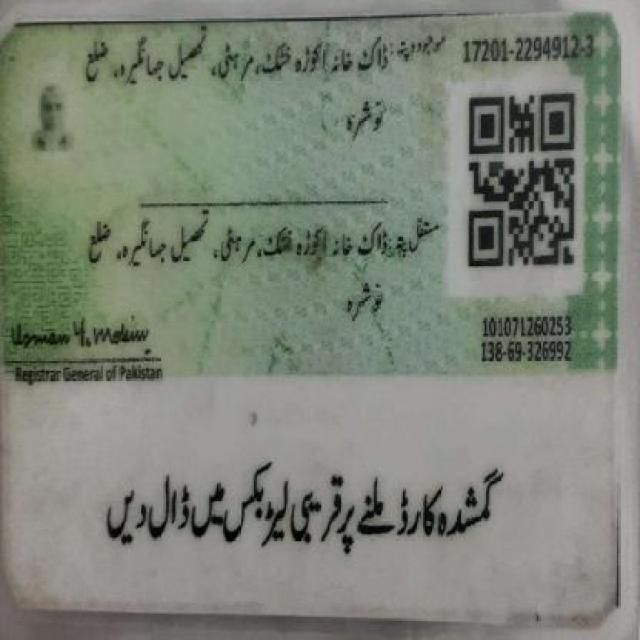Back: (6, 19, 622, 618)
